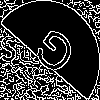G: (25, 25, 79, 86)
